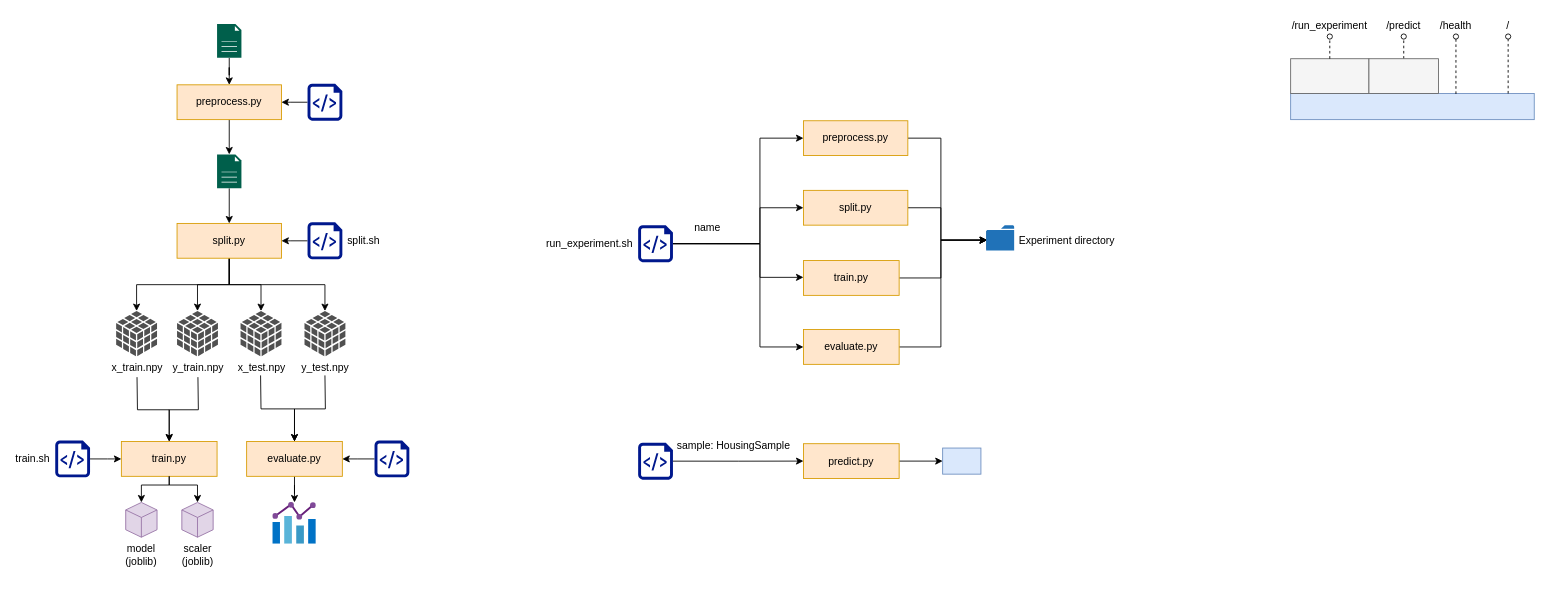
Some shapes in this 1549 by 595 pixel diagram are drawn without their labels. Here are the shapes that lost their labels. From the top down, the centre of each, then its label:
point 229,40: raw data (csv)
point 1329,76: experiment router
point 1403,76: inference router
point 324,101: preprocess.sh
point 1412,106: API
point 229,171: preprocessed data (csv)
point 391,458: evaluate.sh
point 655,460: predict_sample.sh
point 961,460: price
point 294,523: metrics.json
